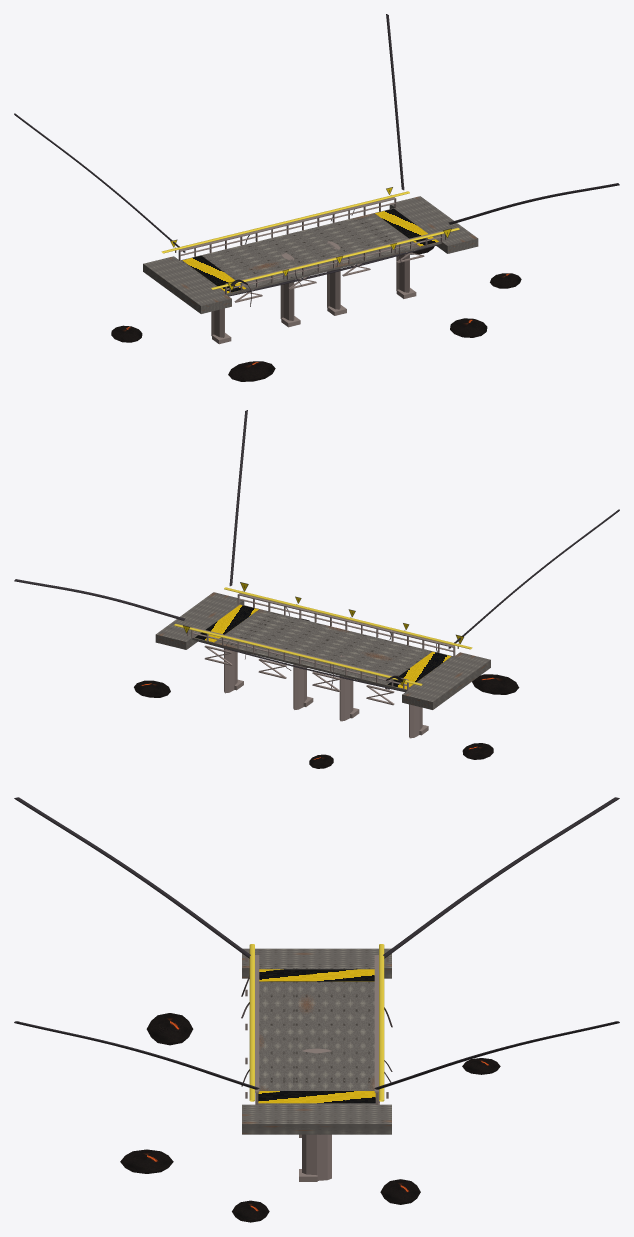
Rendered from volcano.glb.
The picture shows the model from 3 angles, top to bottom: view 1: azimuth 30°, elevation 25°; view 2: azimuth 150°, elevation 25°; view 3: azimuth 270°, elevation 25°; orthographic projection. The views are drawn at different scales.
Parts seen in each view (by area): view 1: BridgeDeck, BridgePlatform_L, BridgePlatform_R, WarningStripe_R, WarningStripe_L, UpperConduit_1, LavaIsland_0, UpperConduit_0, TopRail_+1, LavaIsland_3, Pillar_1, Pillar_2 (+3 smaller); view 2: BridgeDeck, BridgePlatform_L, BridgePlatform_R, WarningStripe_R, WarningStripe_L, UpperConduit_0, LavaIsland_0, UpperConduit_1, TopRail_-1, Pillar_1, AnchorCable_2, Pillar_2 (+4 smaller); view 3: BridgeDeck, BridgePlatform_R, BridgePlatform_L, WarningStripe_R, WarningStripe_L, Pillar_3, AnchorCable_0, AnchorCable_1, LavaIsland_0, LavaIsland_3, UpperConduit_0, UpperConduit_1 (+6 smaller).
Boxes of the visible parts, x1,y1,x2,y2 form: BridgeDeck: (180,208,441,295); BridgePlatform_L: (143,256,231,313); BridgePlatform_R: (389,196,478,253); WarningStripe_R: (375,208,438,246); WarningStripe_L: (182,255,246,293); UpperConduit_1: (161,191,409,253); LavaIsland_0: (228,361,275,381); UpperConduit_0: (211,228,459,289); TopRail_+1: (179,197,396,251); LavaIsland_3: (450,318,487,337); Pillar_1: (280,252,294,320); Pillar_2: (327,241,340,309); BridgeDeck: (192,604,453,691); BridgePlatform_L: (402,652,490,709); BridgePlatform_R: (155,592,244,649); WarningStripe_R: (195,604,258,642); WarningStripe_L: (387,651,451,689); UpperConduit_0: (224,587,472,649); LavaIsland_0: (472,674,519,694); UpperConduit_1: (174,624,422,685); TopRail_-1: (237,593,454,647); Pillar_1: (339,655,353,721); AnchorCable_2: (229,410,247,586); Pillar_2: (293,664,306,709); BridgeDeck: (258,968,375,1104); BridgePlatform_R: (242,1104,391,1134); BridgePlatform_L: (242,948,391,978); WarningStripe_R: (258,1091,375,1103); WarningStripe_L: (259,969,374,981); Pillar_3: (302,1134,331,1180); AnchorCable_0: (14,797,250,958); AnchorCable_1: (383,797,619,958); LavaIsland_0: (146,1013,193,1045); LavaIsland_3: (120,1149,173,1173); UpperConduit_0: (249,944,254,1101); UpperConduit_1: (379,944,384,1101).
Size of what is drawn, in the model's own units: 48.74 by 21.07 by 52.54.
Materials: 8 (4 with a texture image).
